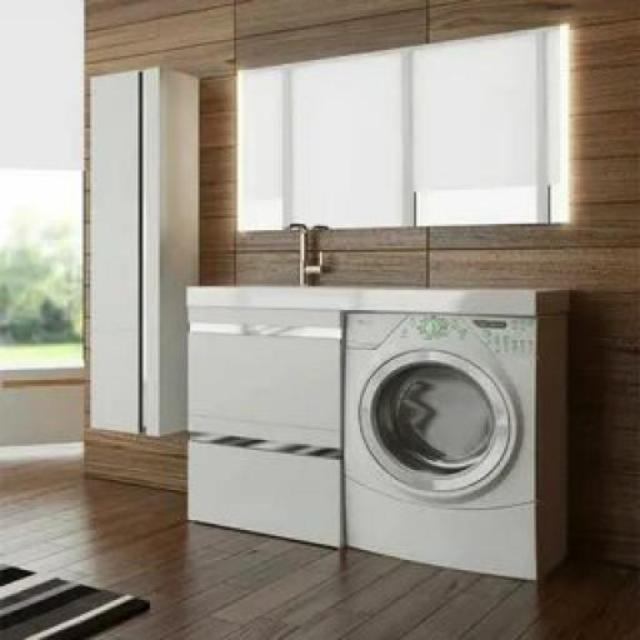Washing-Machine: (349, 303, 555, 581)
